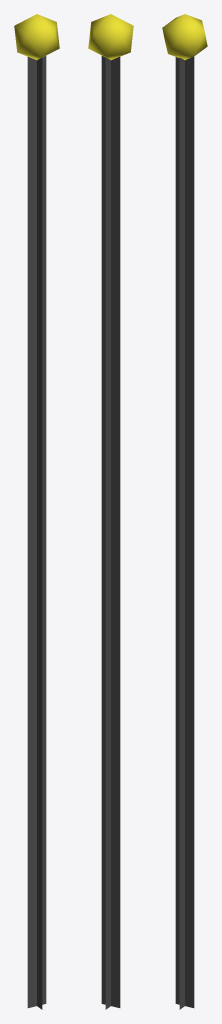
File: light_floor_mockup.fbx
3 views of the same model, side by side, from view 1: azimuth 30°, elevation 25°; view 2: azimuth 150°, elevation 25°; view 3: azimuth 330°, elevation 25° (orthographic).
Parts seen in each view (by area): view 1: Icosphere.002; view 2: Icosphere.002; view 3: Icosphere.002.
Part boxes in pixels (x1,y1,x2,y2): Icosphere.002: (14, 14, 59, 1009); Icosphere.002: (88, 14, 133, 1009); Icosphere.002: (162, 14, 207, 1009).
Size of the model in its own units: 0.0428 by 0.0407 by 1.02.
